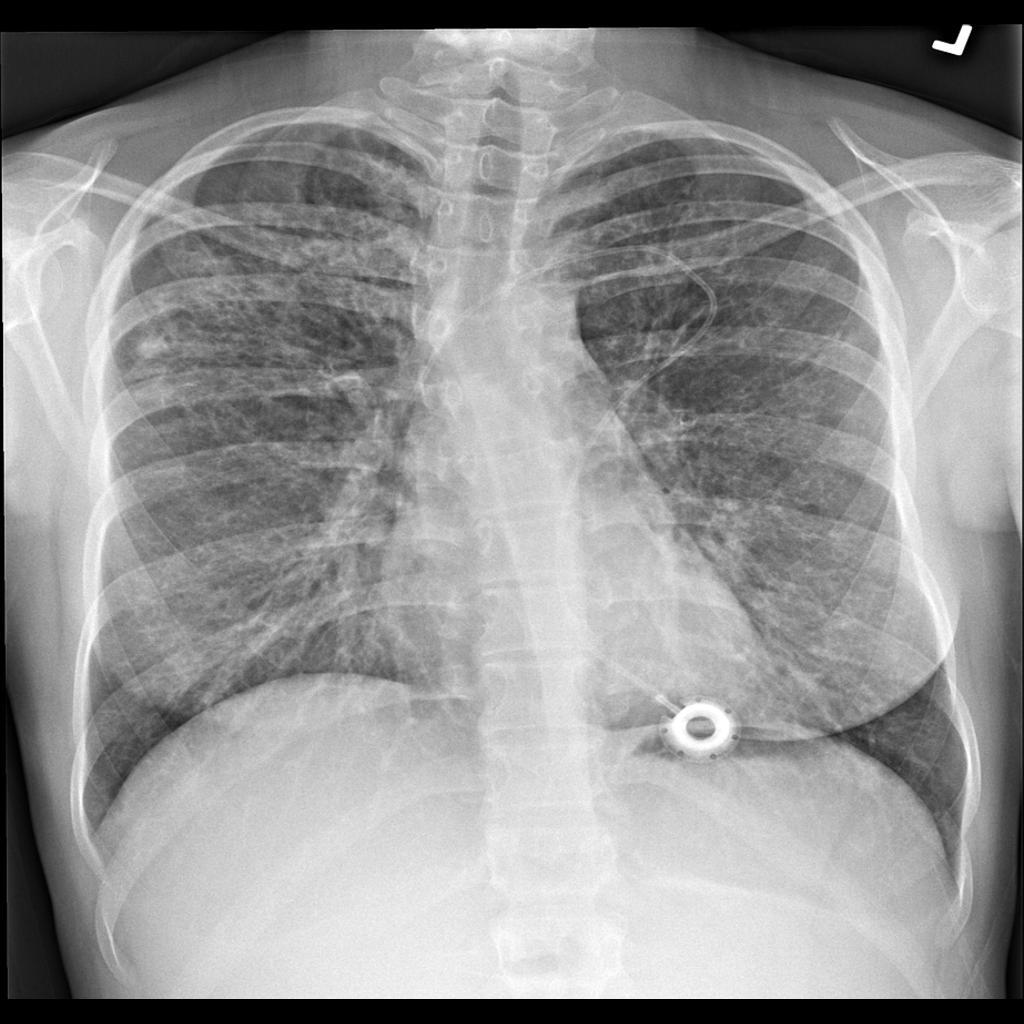Nodule: (138, 331, 173, 363)
